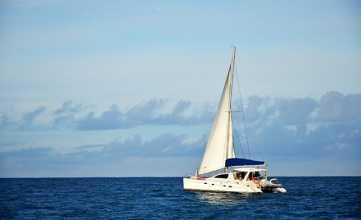fanchuan: (167, 41, 286, 192)
